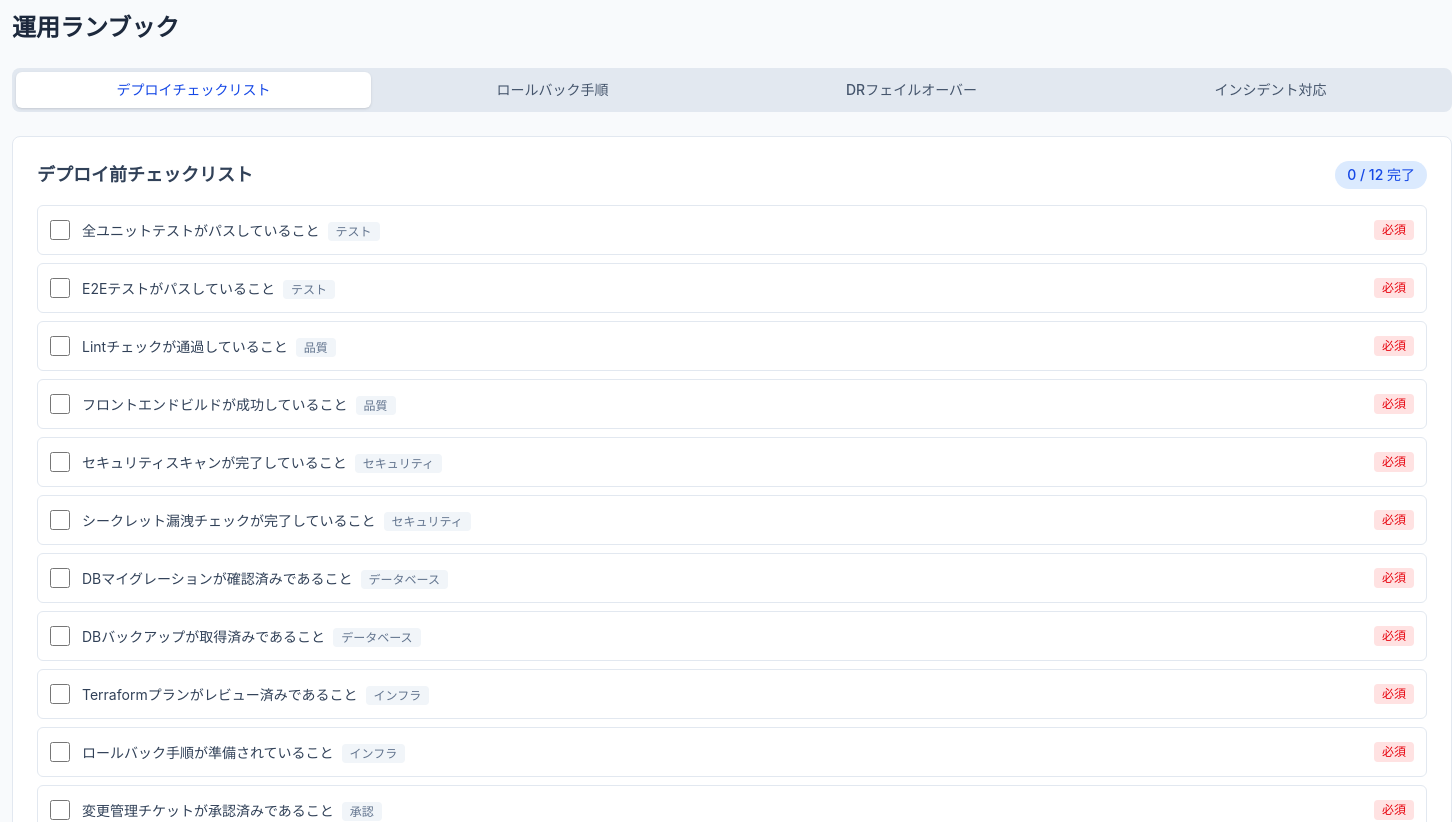
Test: RunbookPage incident tab › switches to dc_failure playbook when selected
This screenshot has width=1452, height=822.
Step 1. Click the button "インシデント対応" → (1270, 90), box [1093,72,1448,108]
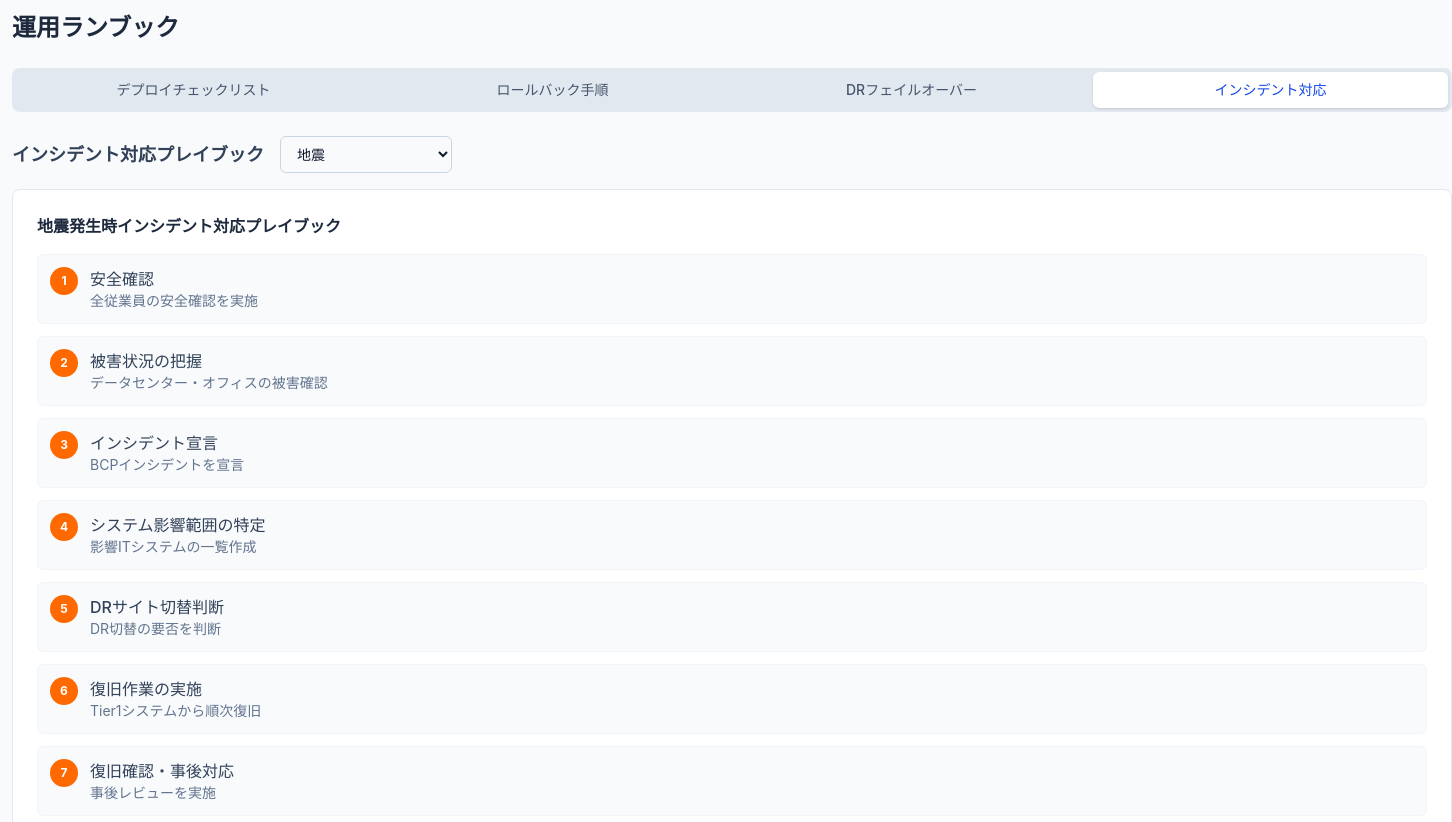
Step 2. Select "データセンター障害" in the dropdown → (366, 154), box [280,136,452,173]
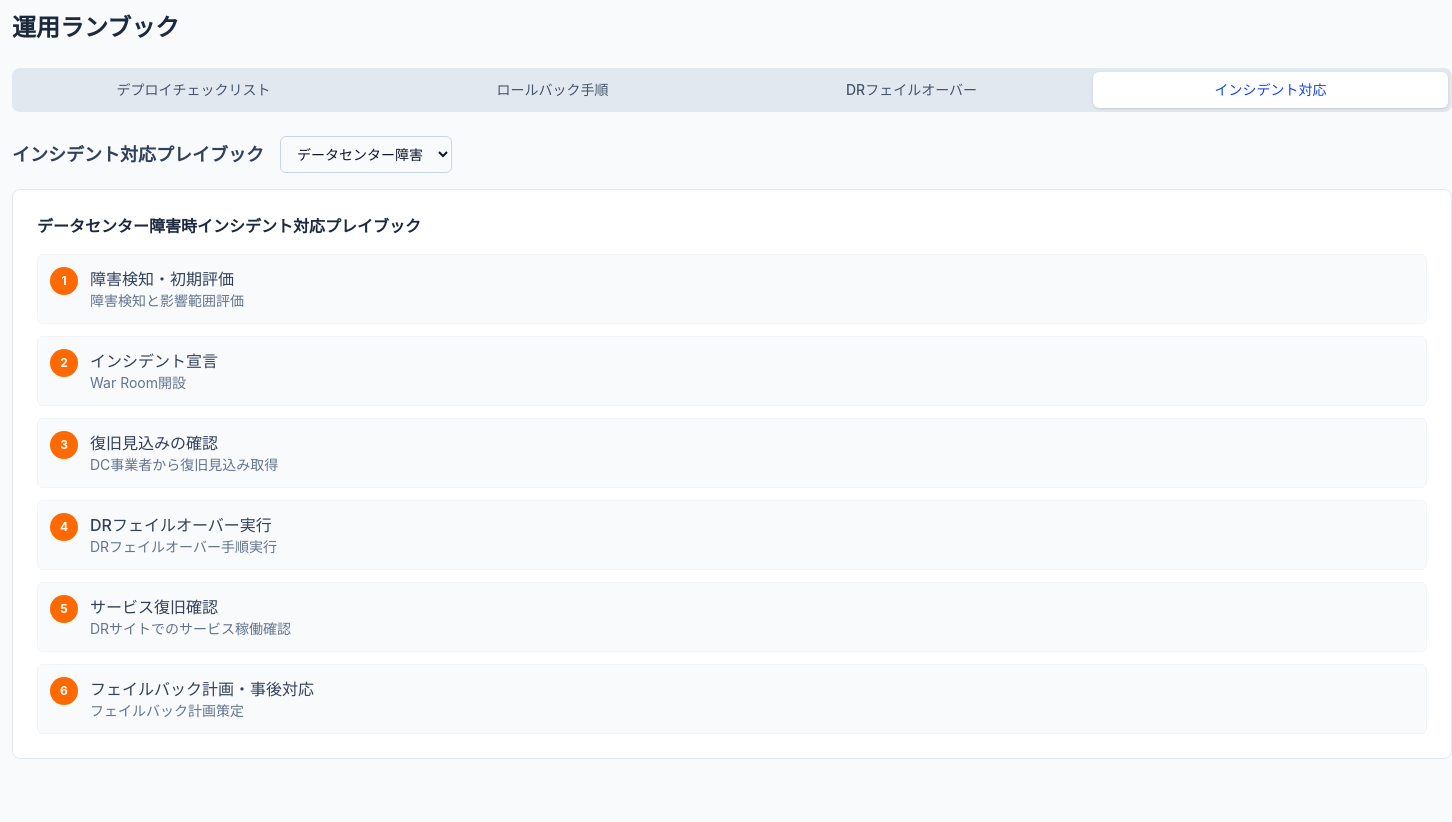
Check: the heading "データセンター障害時インシデント対応プレイブック" is shown, box [37,216,421,236]
Check: the text "障害検知・初期評価" is shown, box [90,267,244,291]
